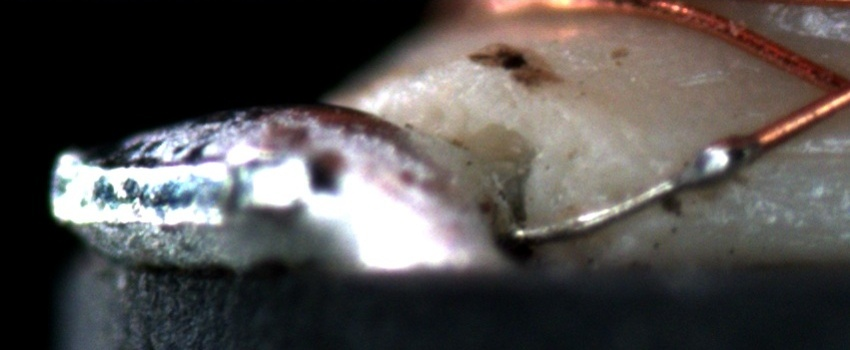CL: (800, 54, 849, 119)
DL: (759, 122, 850, 186)
TB: (685, 127, 759, 181)
TS: (510, 135, 761, 240)
TTCW: (511, 115, 798, 243)
